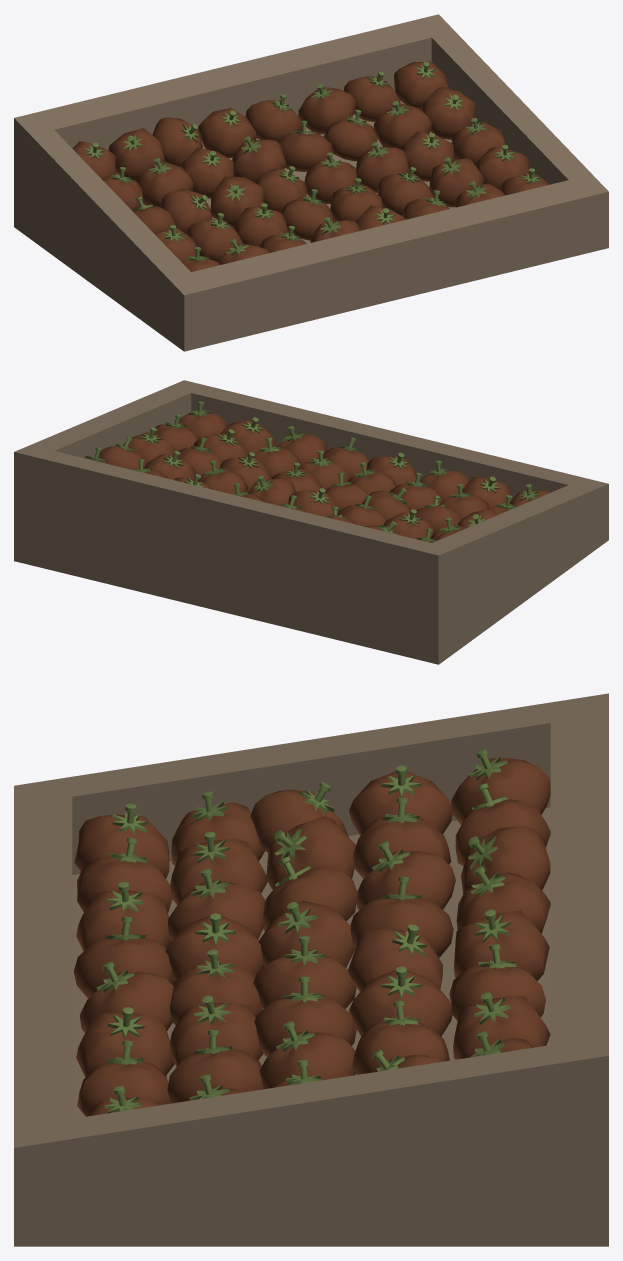
Rendered from PS_Bin02.fbx.
3 views of the same model, one above another, from view 1: azimuth 30°, elevation 25°; view 2: azimuth 150°, elevation 25°; view 3: azimuth 270°, elevation 25° (orthographic). The views are drawn at different scales.
Visible parts, largest first — view 1: PS_Bin02; view 2: PS_Bin02; view 3: PS_Bin02.
Boxes of the visible parts, x1=… form: PS_Bin02: x1=14, y1=14, x2=608, y2=351; PS_Bin02: x1=14, y1=380, x2=608, y2=664; PS_Bin02: x1=14, y1=693, x2=608, y2=1246.
Size of the model in its own units: 0.9 by 0.2211 by 0.6247.
